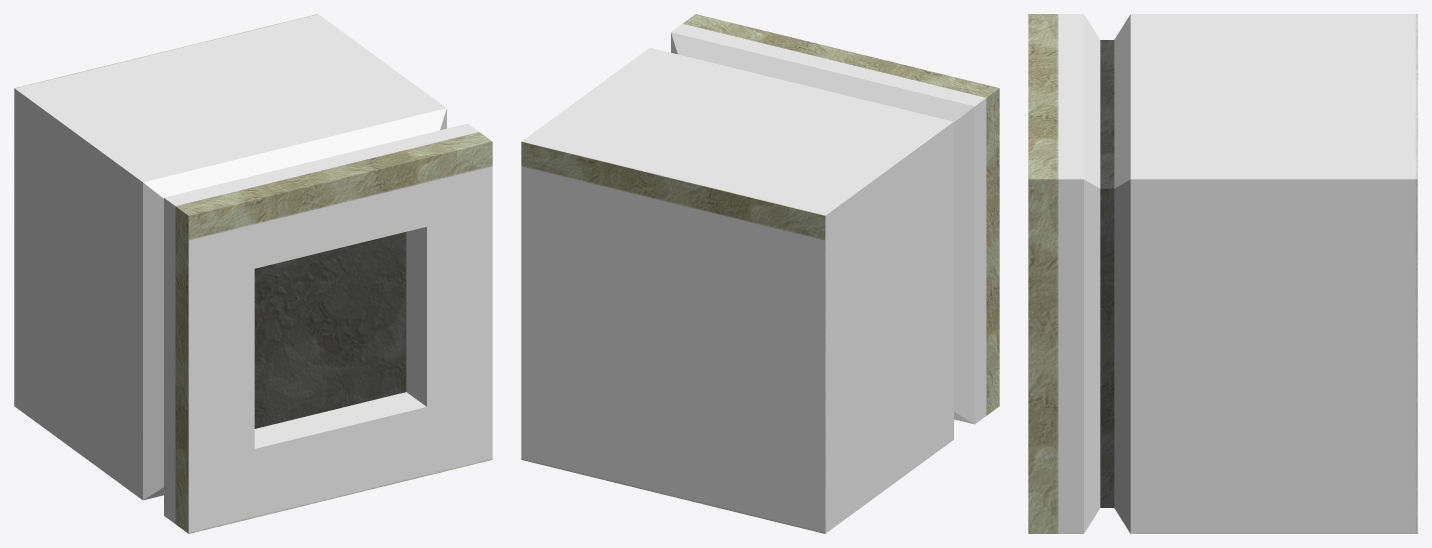
The picture shows the model from 3 angles, left to right: view 1: azimuth 30°, elevation 25°; view 2: azimuth 150°, elevation 25°; view 3: azimuth 270°, elevation 25°; orthographic projection. The views are drawn at different scales.
Parts seen in each view (by area): view 1: Cube_Cube_None_QuartoPieces.png; view 2: Cube_Cube_None_QuartoPieces.png; view 3: Cube_Cube_None_QuartoPieces.png.
Boxes of the visible parts, left/top/right/bottom form: Cube_Cube_None_QuartoPieces.png: left=14, top=14, right=492, bottom=533; Cube_Cube_None_QuartoPieces.png: left=521, top=14, right=999, bottom=533; Cube_Cube_None_QuartoPieces.png: left=1028, top=14, right=1417, bottom=533.
Size of the model in its own units: 2 by 2 by 1.99.
